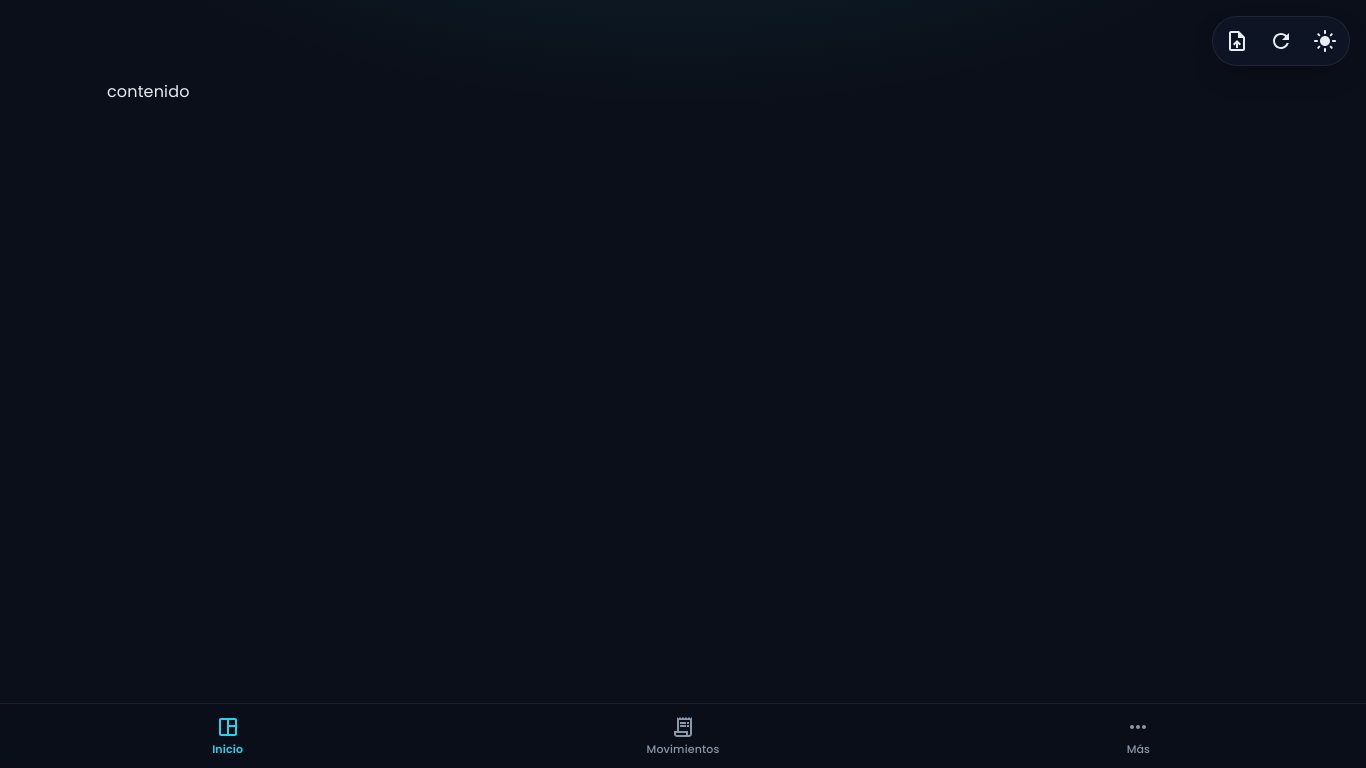
Test: Layout en mobile › con teclado, «Más» indica si está abierto y el foco vuelve a él al cerrar con Escape
The width and height of the screenshot is (1366, 768).
Click the button "Más" at (1138, 736), box [911, 704, 1365, 767]
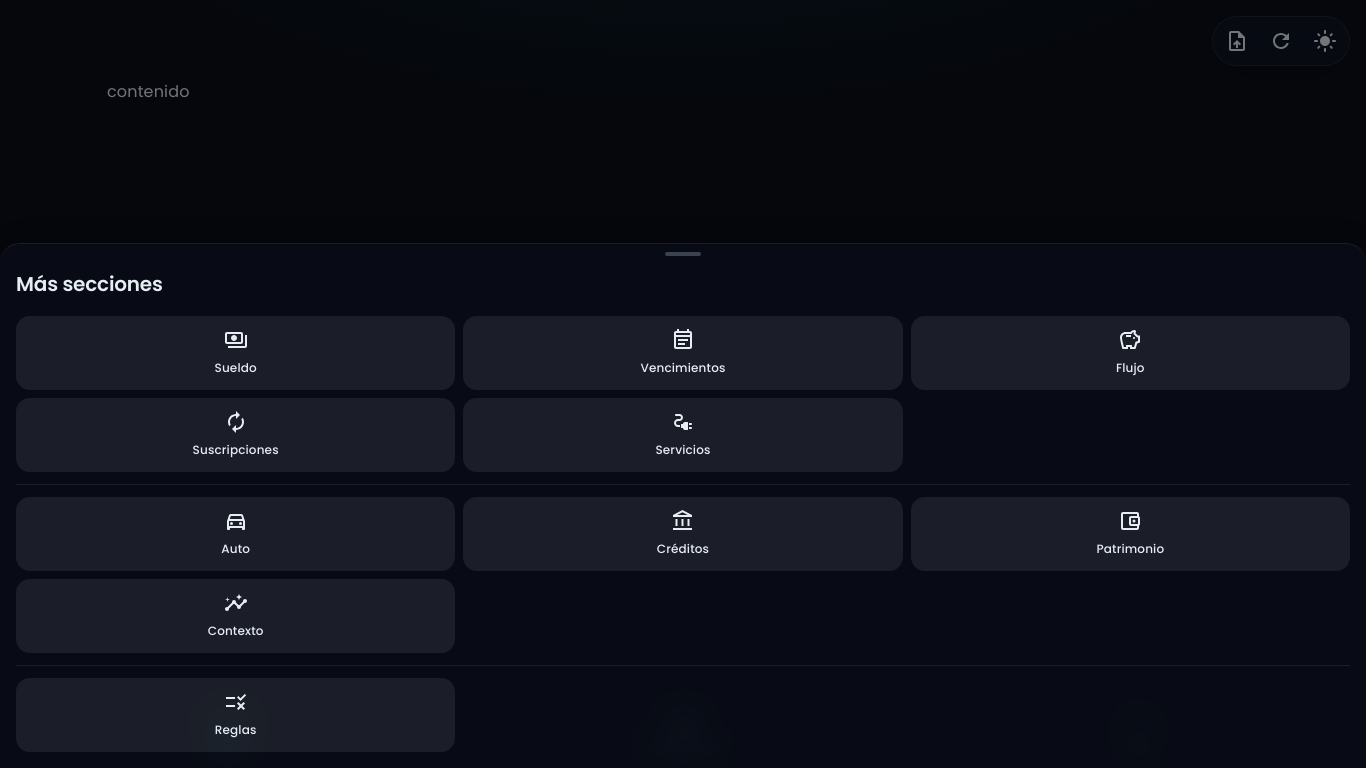
Press Escape in the dialog "Más secciones"
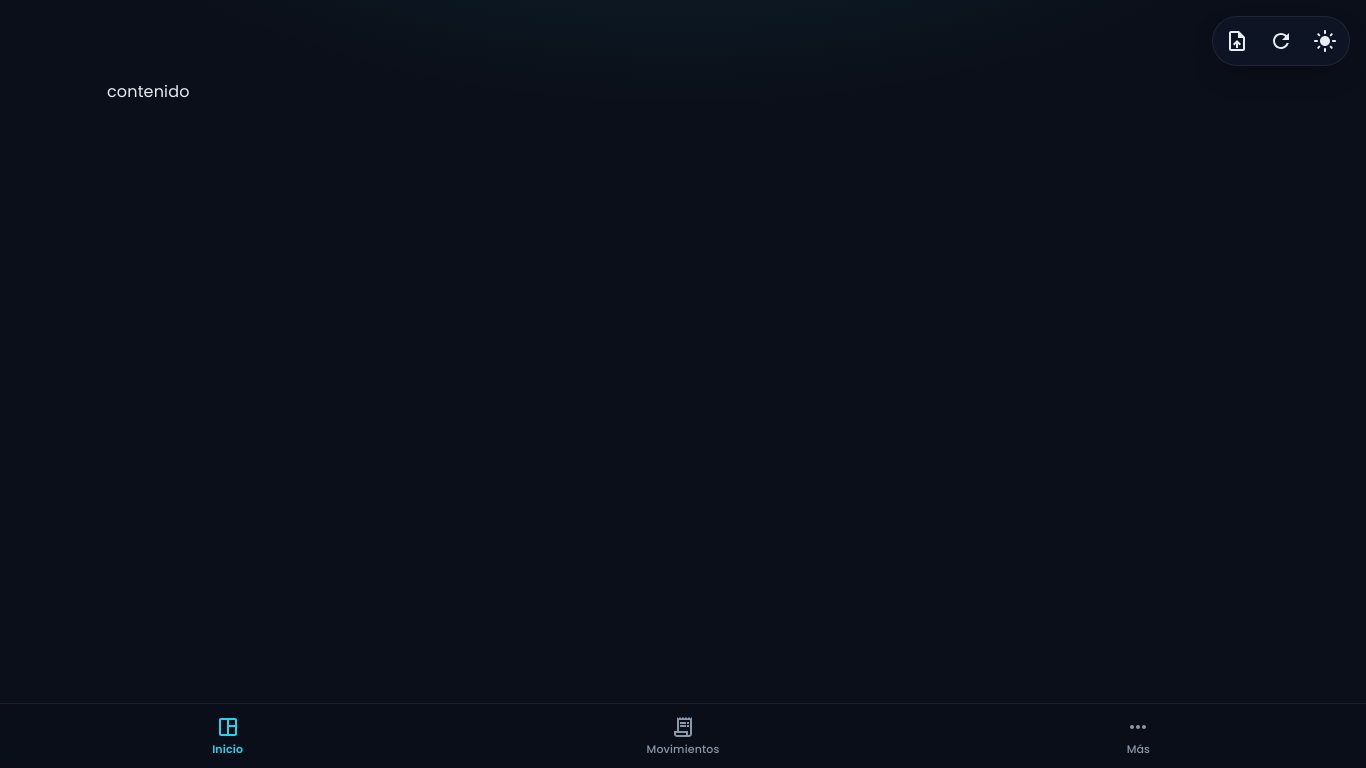
Result: the button "Más" is collapsed at [911, 704, 1365, 767]
